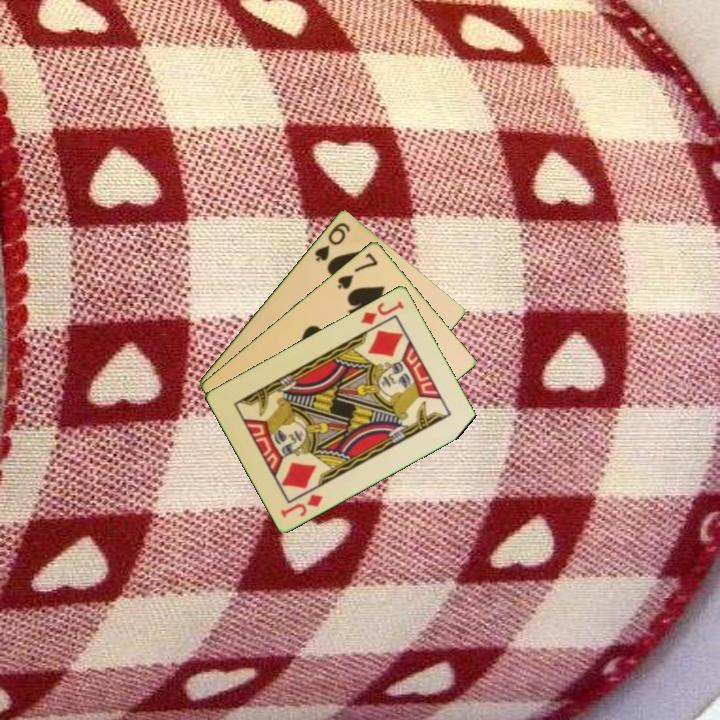6s: (311, 218, 353, 264)
7s: (334, 249, 381, 292)
Jd: (357, 297, 407, 327), (277, 490, 326, 520)
